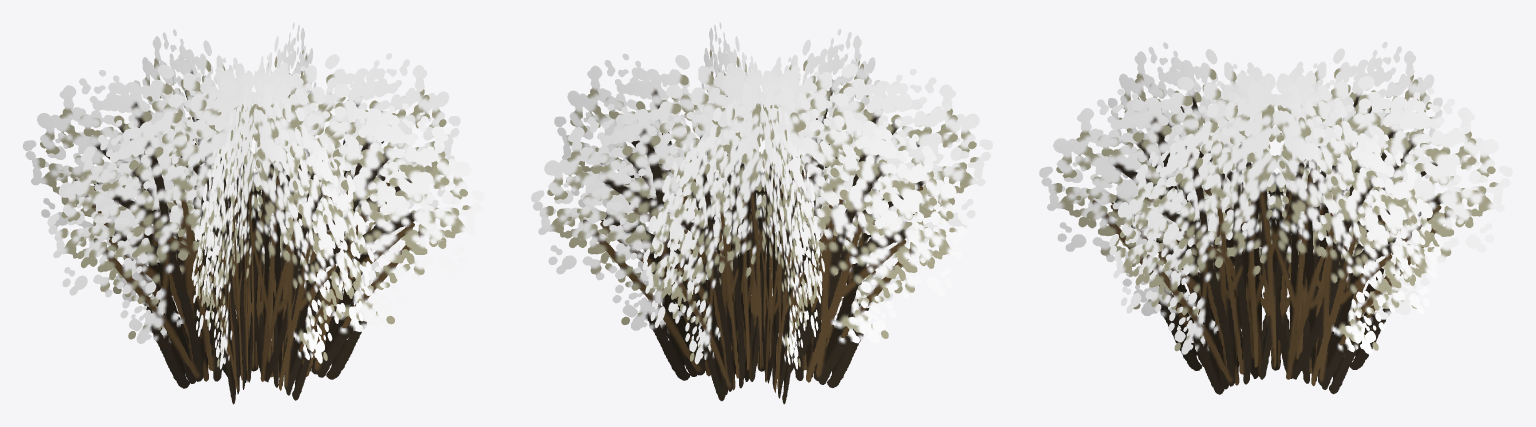
File: painted-bush-024.glb
3 views of the same model, side by side, from view 1: azimuth 30°, elevation 25°; view 2: azimuth 150°, elevation 25°; view 3: azimuth 270°, elevation 25° (orthographic).
Size of the model in its own units: 10.13 by 7.19 by 10.13.
1 material, 1 textured.
